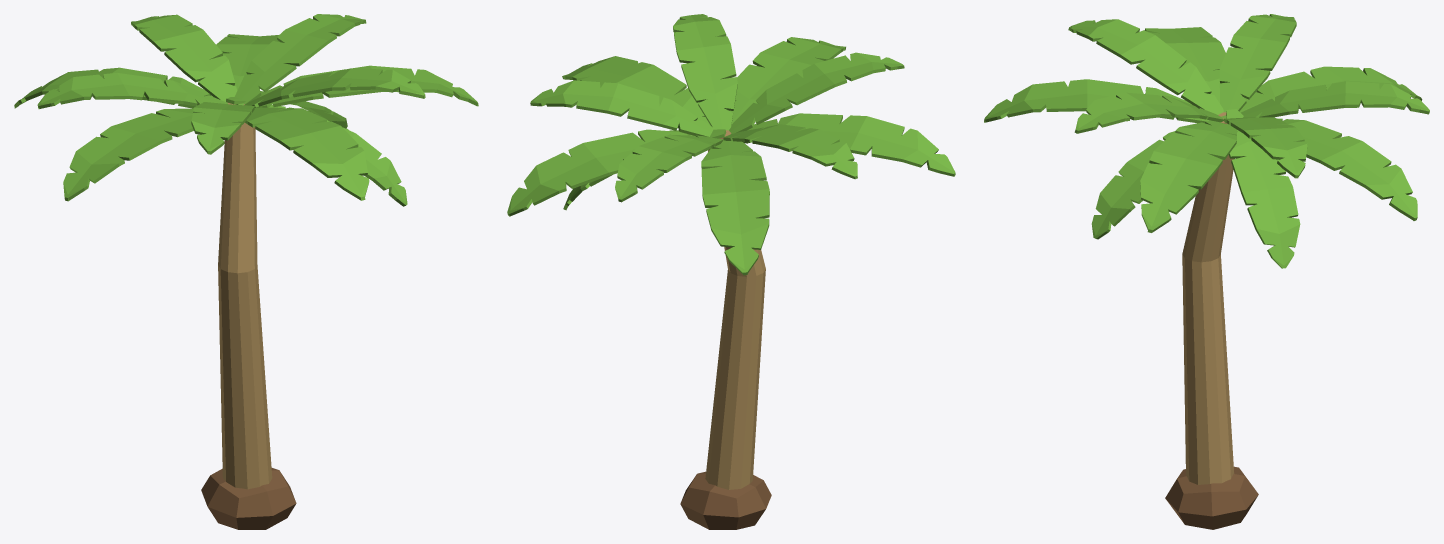
File: palmtree2.glb
The picture shows the model from 3 angles, left to right: view 1: azimuth 30°, elevation 25°; view 2: azimuth 150°, elevation 25°; view 3: azimuth 270°, elevation 25°; orthographic projection. The views are drawn at different scales.
Parts seen in each view (by area): view 1: Cylinder.001; view 2: Cylinder.001; view 3: Cylinder.001.
Boxes of the visible parts, x1=… form: Cylinder.001: x1=14, y1=14, x2=478, y2=529; Cylinder.001: x1=507, y1=14, x2=955, y2=529; Cylinder.001: x1=984, y1=14, x2=1429, y2=529.
Size of the model in its own units: 6.75 by 7.25 by 6.52.
